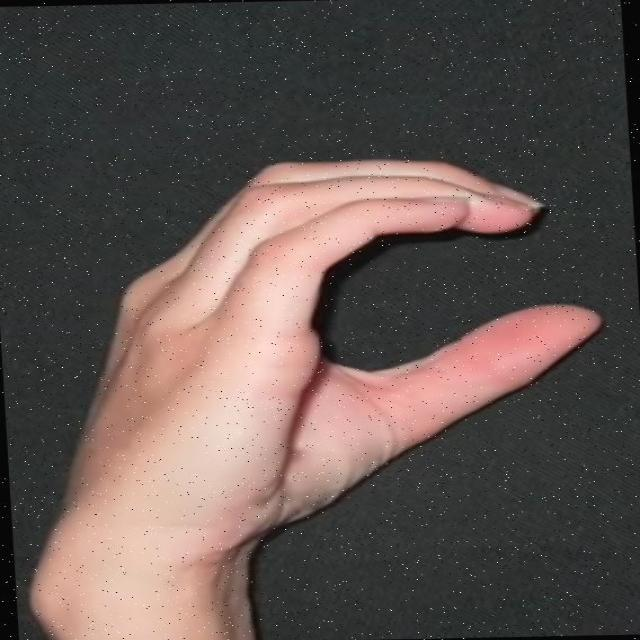C: (64, 147, 627, 560)
